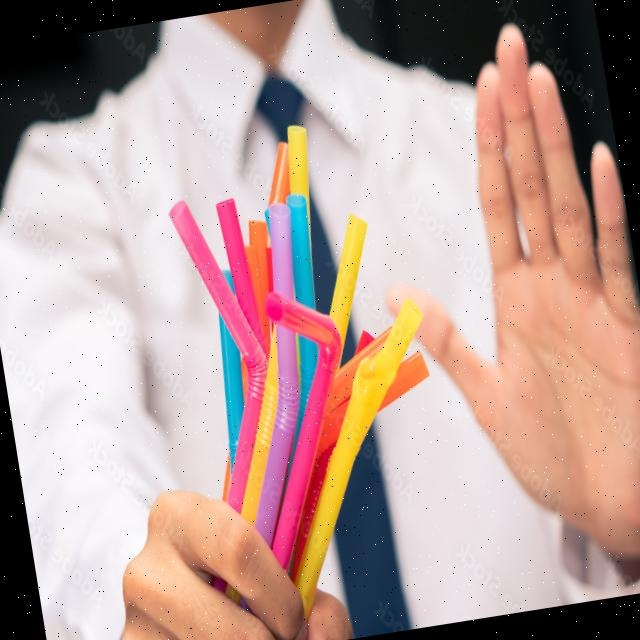plastic: (150, 172, 278, 409)
